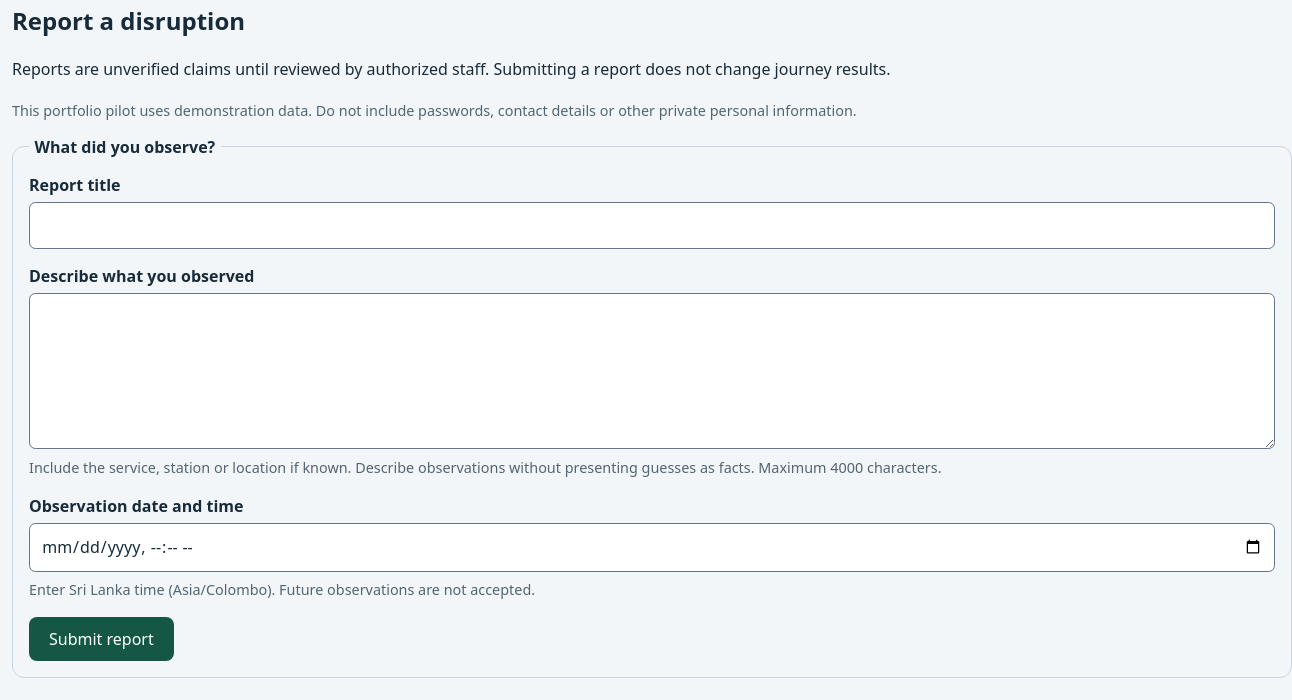
Test: Passenger report form › does not claim failure or success when submission is uncertain
The width and height of the screenshot is (1292, 700).
Type "Synthetic station observation" into the field labelled "Report title".
click(652, 226); type("Synthetic station observation")  # box x1=29 y1=202 x2=1275 y2=249
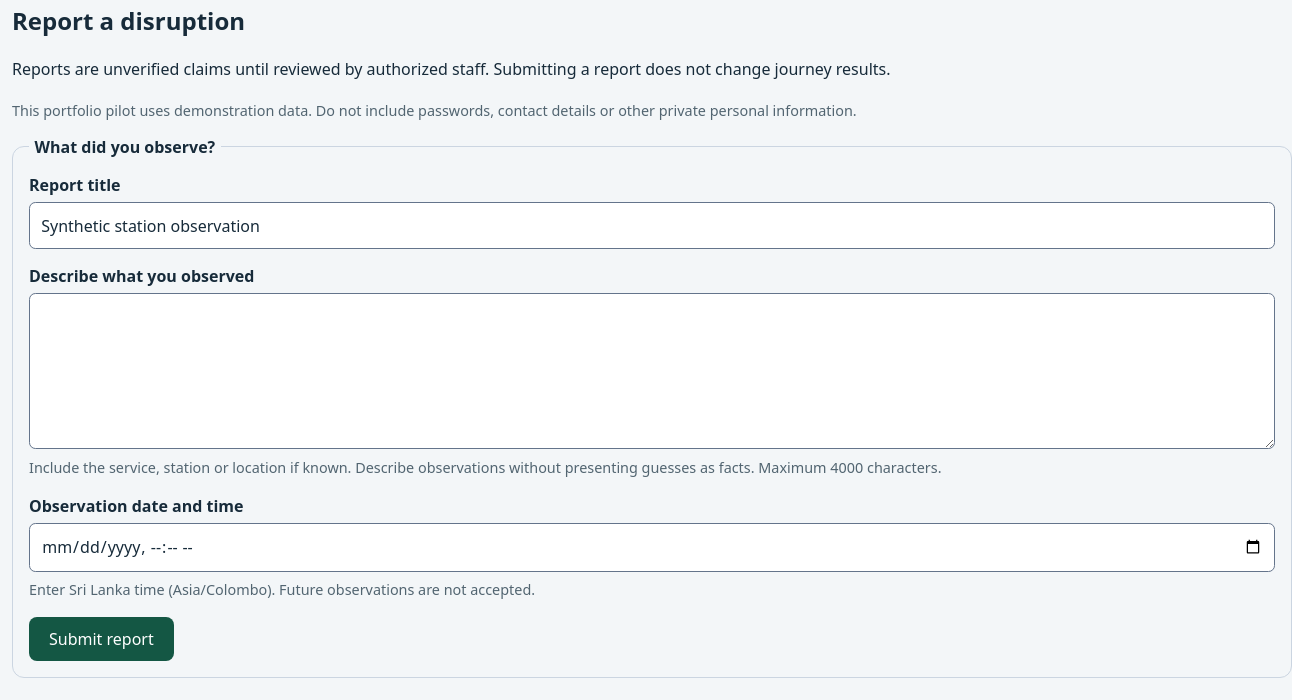
Type "A fictional observation for the portfolio demonstration." into the text box labelled "Describe what you observed".
click(652, 371); type("A fictional observation for the portfolio demonstration.")  # box x1=29 y1=293 x2=1275 y2=450
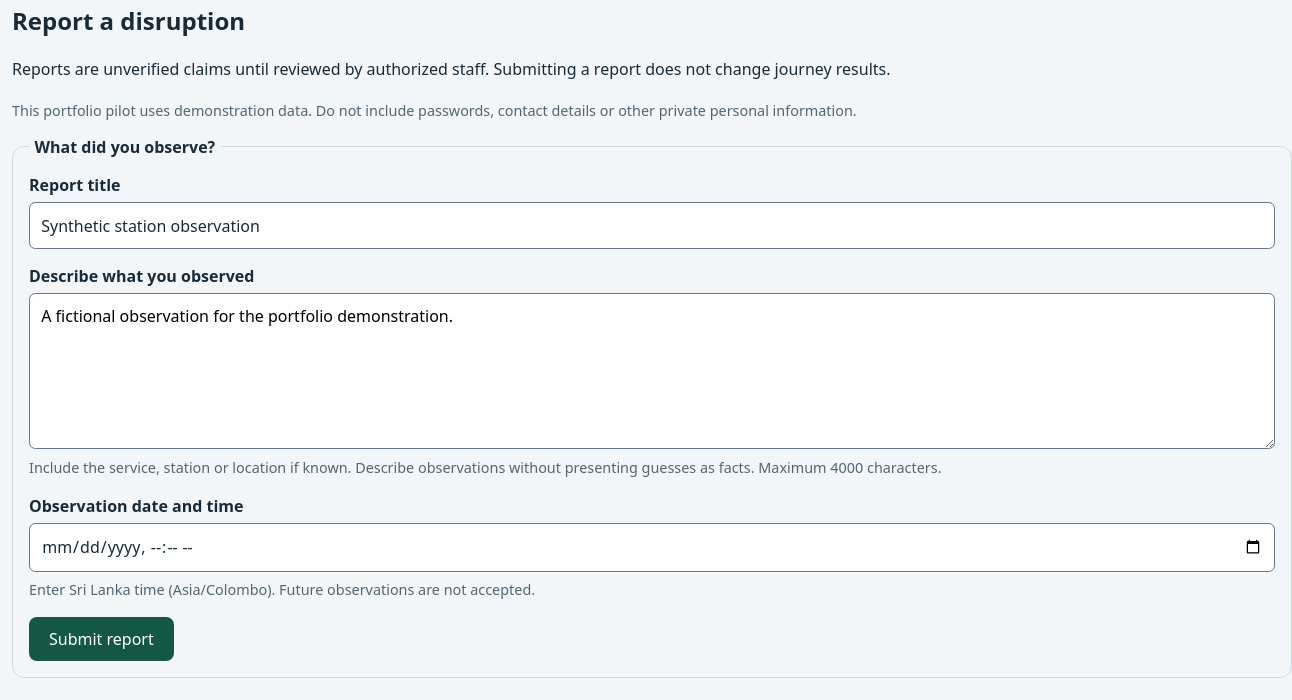
Type "2020-01-02T10:30" into the field labelled "Observation date and time".
click(652, 548); type("2020-01-02T10:30")  # box x1=29 y1=523 x2=1275 y2=572
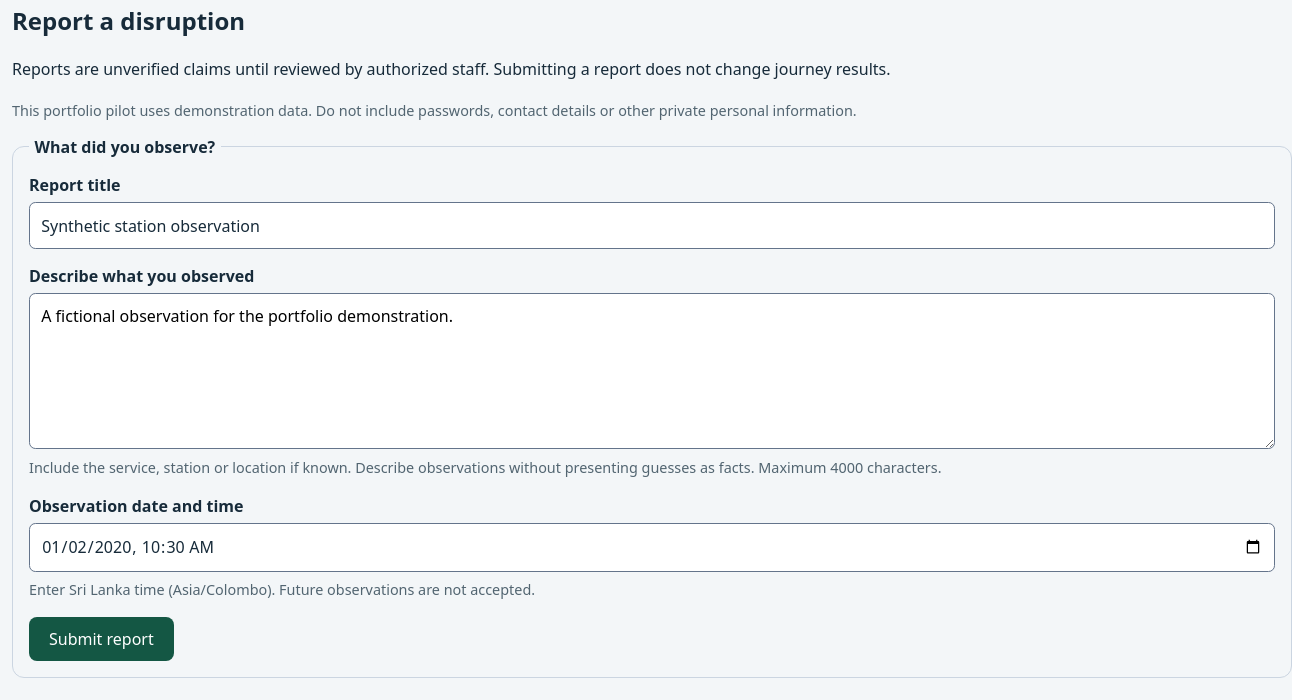
Click the button "Submit report".
click(101, 639)  # box x1=29 y1=617 x2=174 y2=661
(page scrolled)
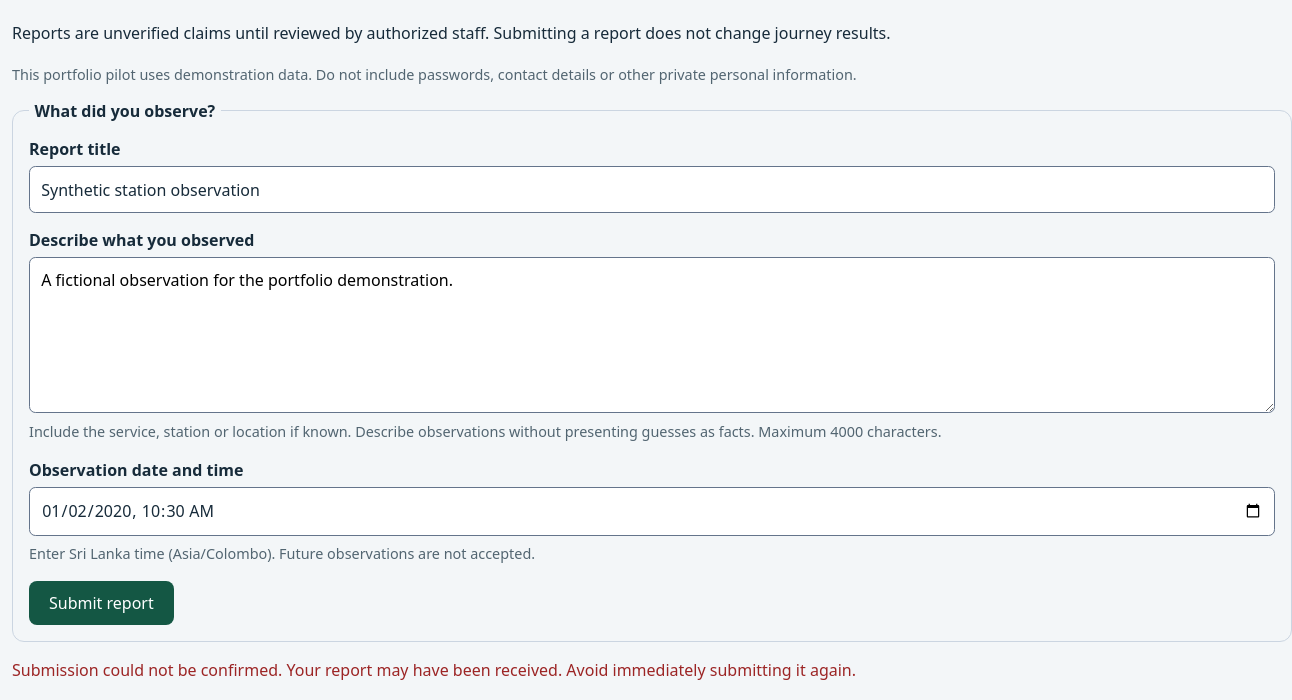
Check: the message shows "Submission could not be confirmed.", box x1=12 y1=659 x2=856 y2=681
Check: the message shows "Your report may have been received.", box x1=12 y1=659 x2=856 y2=681
